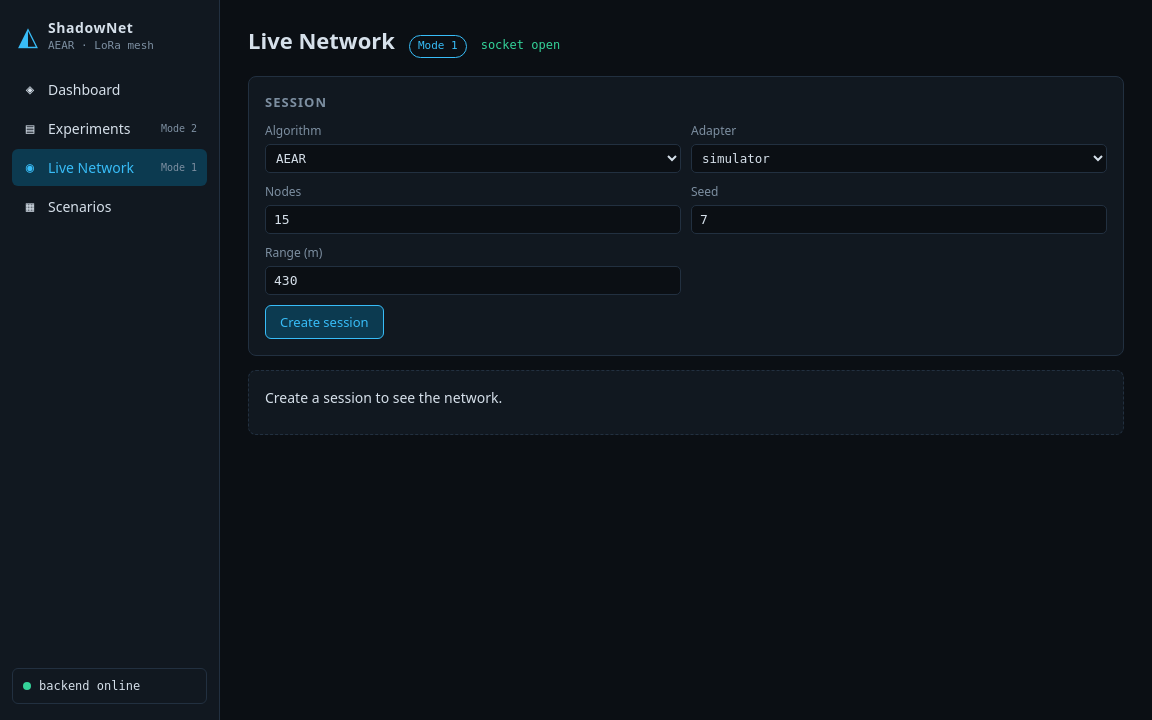
it: Live Network (Mode 1) › greys out time and failure controls when the adapter lacks those capabilities
Click the button "Create session". click: (324, 322)
box: [265,305,384,339]
(page scrolled)
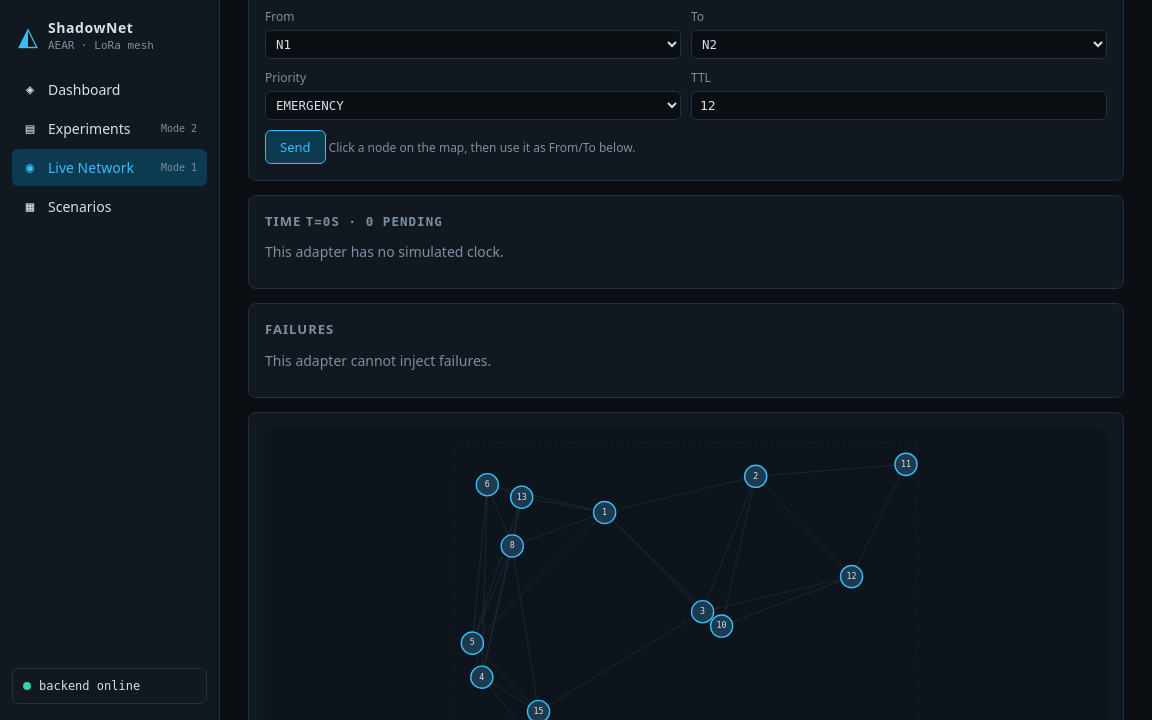
Result: the text "This adapter has no simulated clock." is shown at [265,242,504,261]
Result: the text "This adapter cannot inject failures." is shown at [265,351,491,370]
